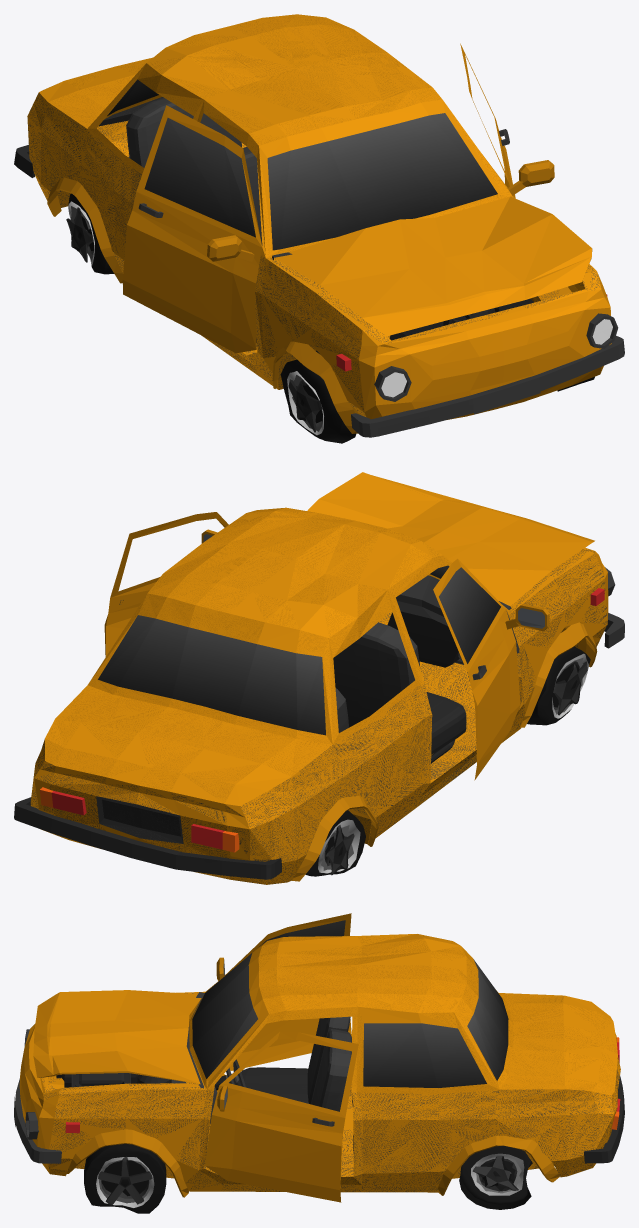
The model's file is Broken Car 1.fbx.
The picture shows the model from 3 angles, top to bottom: view 1: azimuth 30°, elevation 25°; view 2: azimuth 150°, elevation 25°; view 3: azimuth 270°, elevation 25°; orthographic projection. The views are drawn at different scales.
Parts seen in each view (by area): view 1: Broken_Car_1; view 2: Broken_Car_1; view 3: Broken_Car_1.
Boxes of the visible parts, x1=… form: Broken_Car_1: x1=14, y1=14, x2=624, y2=443; Broken_Car_1: x1=14, y1=472, x2=624, y2=884; Broken_Car_1: x1=14, y1=913, x2=624, y2=1213.
Bounding box in the file's own units: 322 × 199 × 551.
